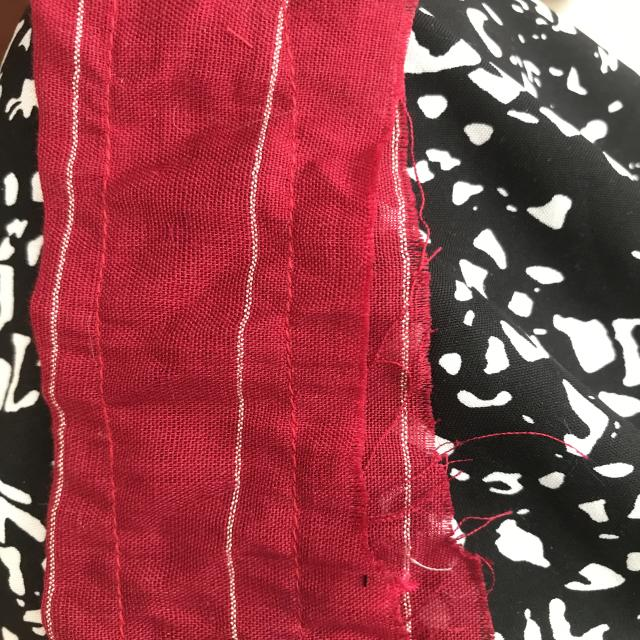good: (279, 439, 307, 616), (104, 475, 131, 634)
